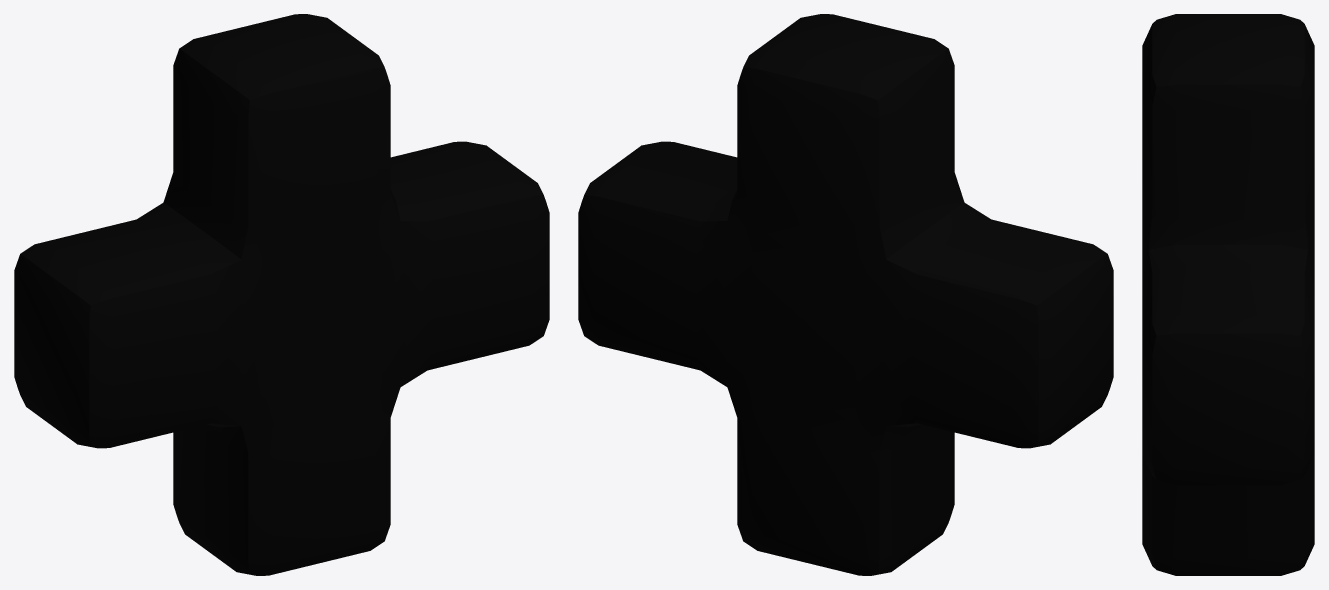
Rendered from Medikit.fbx.
3 renders of one model, left to right at view 1: azimuth 30°, elevation 25°; view 2: azimuth 150°, elevation 25°; view 3: azimuth 270°, elevation 25°, orthographic.
Parts seen in each view (by area): view 1: Medikit; view 2: Medikit; view 3: Medikit.
Part boxes in pixels (<box>): Medikit: <box>14,14,549,575</box>; Medikit: <box>578,14,1113,575</box>; Medikit: <box>1142,14,1314,575</box>.
Size of the model in its own units: 200 by 200 by 61.34.
